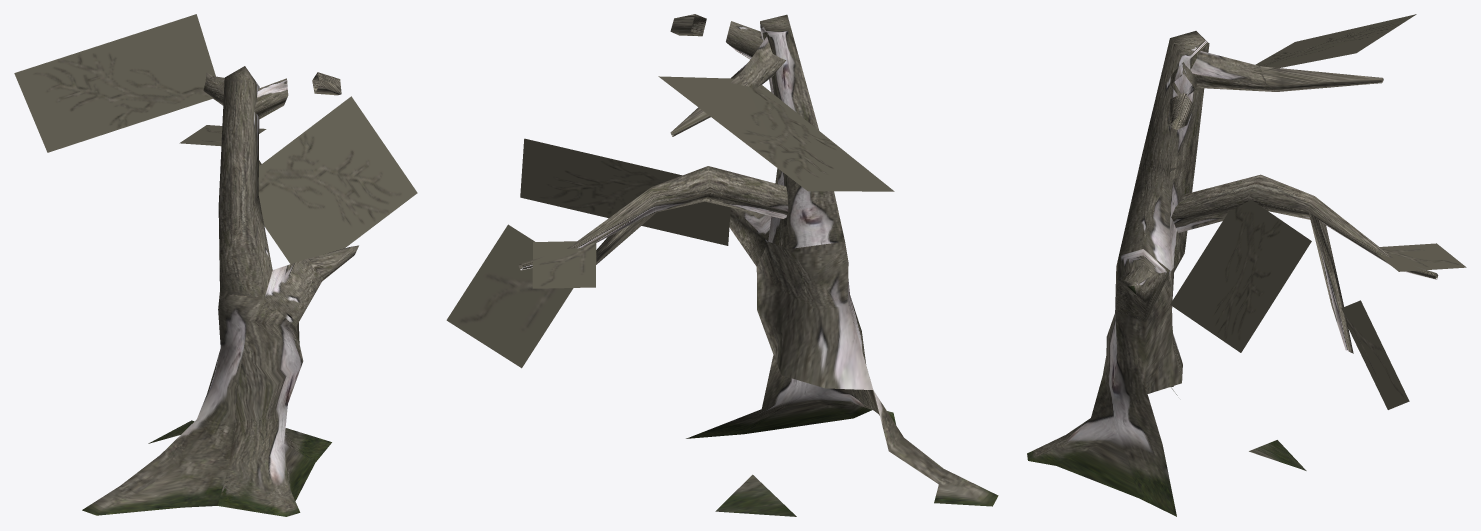
Rendered from big dead tree_04.fbx.
3 views of the same model, side by side, from view 1: azimuth 30°, elevation 25°; view 2: azimuth 150°, elevation 25°; view 3: azimuth 270°, elevation 25° (orthographic). The views are drawn at different scales.
Visible parts, largest first — view 1: polySurface851; view 2: polySurface851; view 3: polySurface851.
Part boxes in pixels (x1=…): polySurface851: x1=14, y1=14, x2=417, y2=516; polySurface851: x1=446, y1=14, x2=998, y2=516; polySurface851: x1=1027, y1=14, x2=1466, y2=516.
Size of the model in its own units: 7.63 by 7.62 by 6.95.
